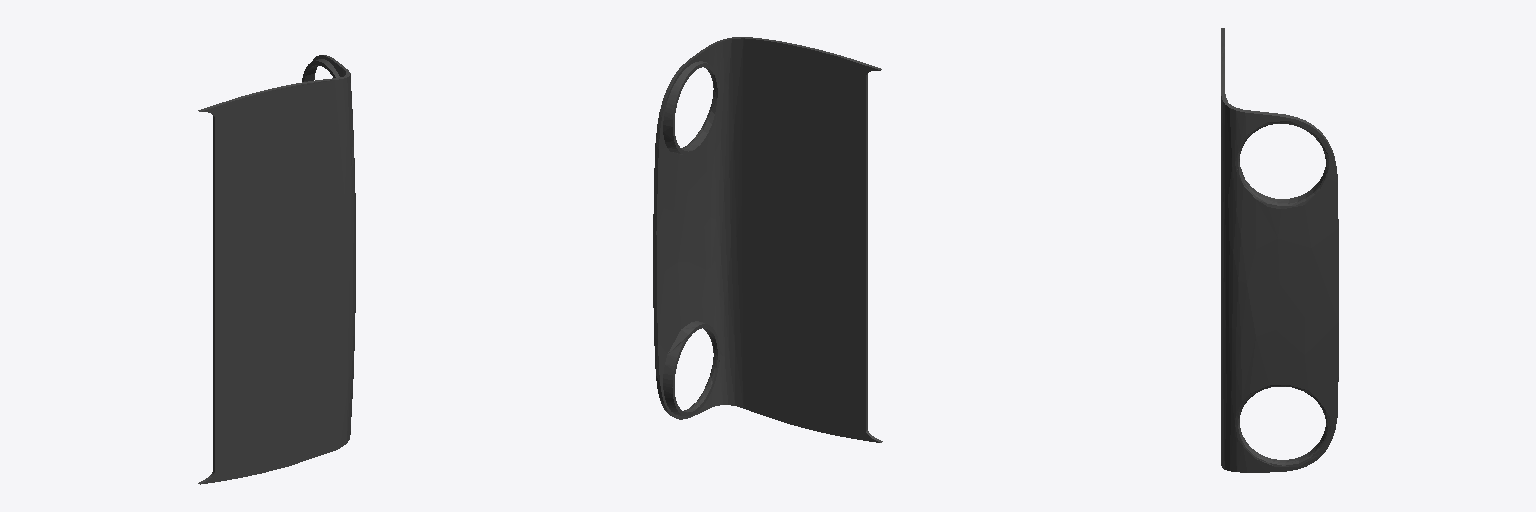
3 renders of one model, left to right at view 1: azimuth 30°, elevation 25°; view 2: azimuth 150°, elevation 25°; view 3: azimuth 270°, elevation 25°, orthographic.
Visible parts, largest first — view 1: SM_Head_Upper; view 2: SM_Head_Upper; view 3: SM_Head_Upper.
Boxes of the visible parts, <box> form: SM_Head_Upper: <box>198,55,355,484</box>; SM_Head_Upper: <box>653,37,882,442</box>; SM_Head_Upper: <box>1221,28,1338,472</box>.
Bounding box in the file's own units: 0.0962 × 0.2042 × 0.0572.
Materials: 1 (1 with a texture image).